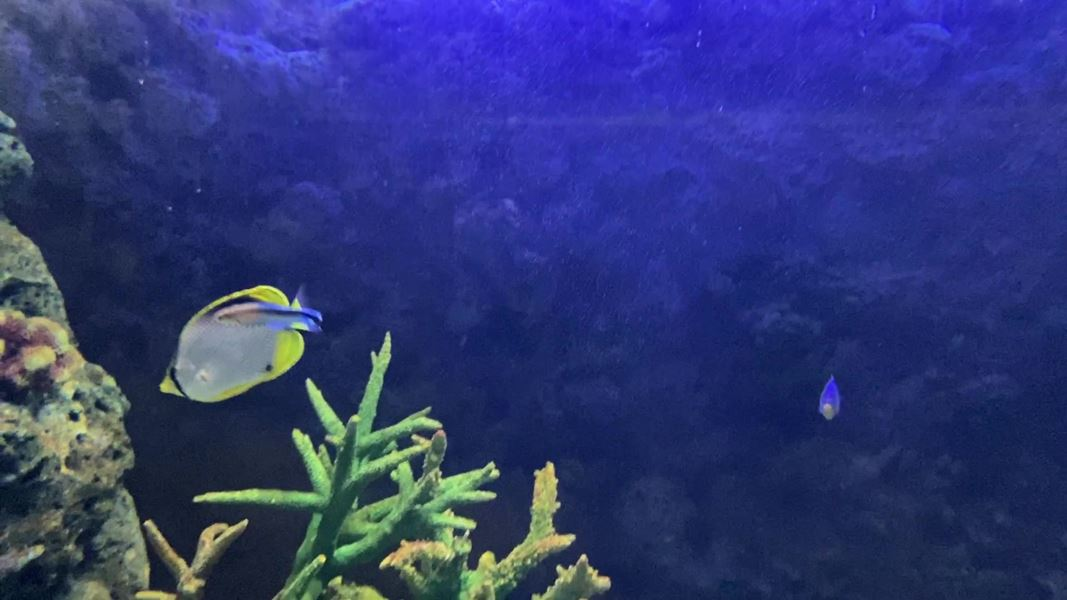Bluesteak cleaner wrasse: (211, 294, 330, 346)
